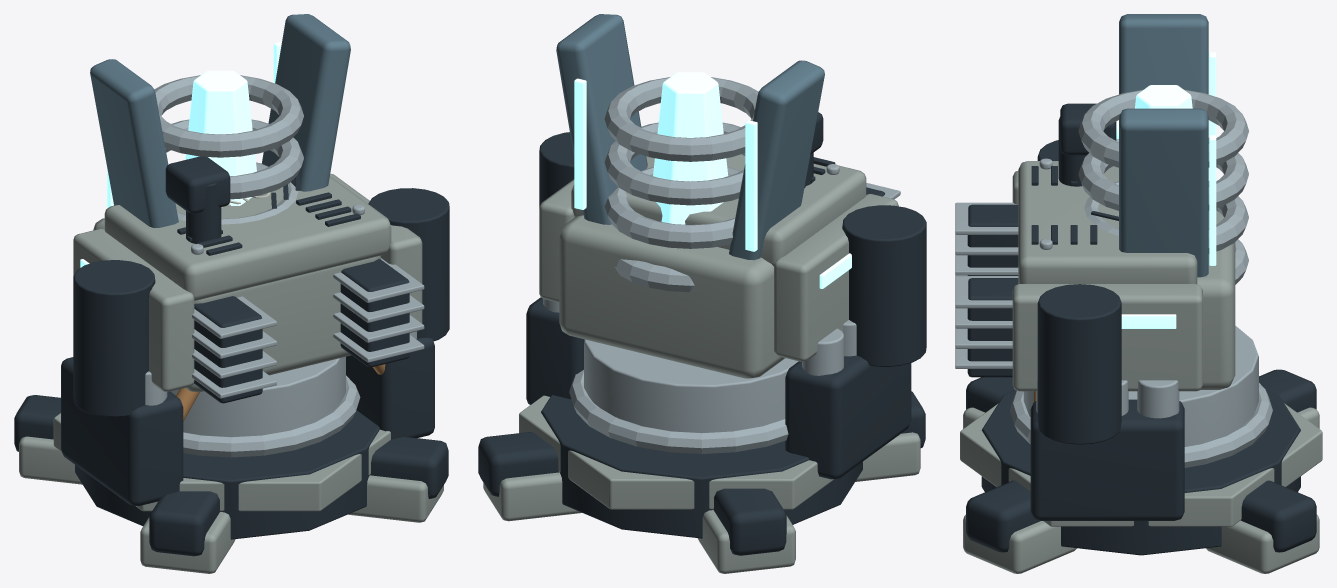
File: 03_cryo_prism.glb
The picture shows the model from 3 angles, left to right: view 1: azimuth 30°, elevation 25°; view 2: azimuth 150°, elevation 25°; view 3: azimuth 270°, elevation 25°; orthographic projection. The views are drawn at different scales.
Visible parts, largest first — view 1: Recessed bearing, Armored cradle, Cooling vent, Emitter fin, Rivet, Armored footing, Bearing, Identification strip; view 2: Armored cradle, Recessed bearing, Bearing, Emitter fin, Armored footing, Rivet, Cooling vent, Identification strip; view 3: Recessed bearing, Armored cradle, Cooling vent, Emitter fin, Rivet, Armored footing, Bearing, Identification strip.
Part boxes in pixels (x1,y1,x2,y2): Recessed bearing: [14, 337, 448, 556]; Armored cradle: [73, 171, 422, 391]; Cooling vent: [73, 156, 449, 416]; Emitter fin: [90, 14, 350, 227]; Rivet: [154, 75, 424, 398]; Armored footing: [19, 413, 443, 573]; Bearing: [145, 331, 416, 457]; Identification strip: [80, 41, 281, 267]; Armored cradle: [539, 154, 898, 378]; Recessed bearing: [478, 297, 925, 555]; Bearing: [543, 299, 856, 453]; Emitter fin: [556, 14, 824, 260]; Armored footing: [483, 395, 920, 573]; Rivet: [604, 77, 900, 292]; Cooling vent: [539, 112, 926, 366]; Identification strip: [574, 72, 851, 288]; Recessed bearing: [966, 369, 1316, 555]; Armored cradle: [1012, 161, 1235, 391]; Cooling vent: [967, 103, 1121, 444]; Emitter fin: [1119, 14, 1208, 277]; Rivet: [955, 89, 1248, 368]; Armored footing: [960, 403, 1322, 573]; Bearing: [1010, 326, 1272, 467]; Identification strip: [1116, 52, 1216, 328].
Bounding box in the file's own units: 1.54 × 1.72 × 1.31.
